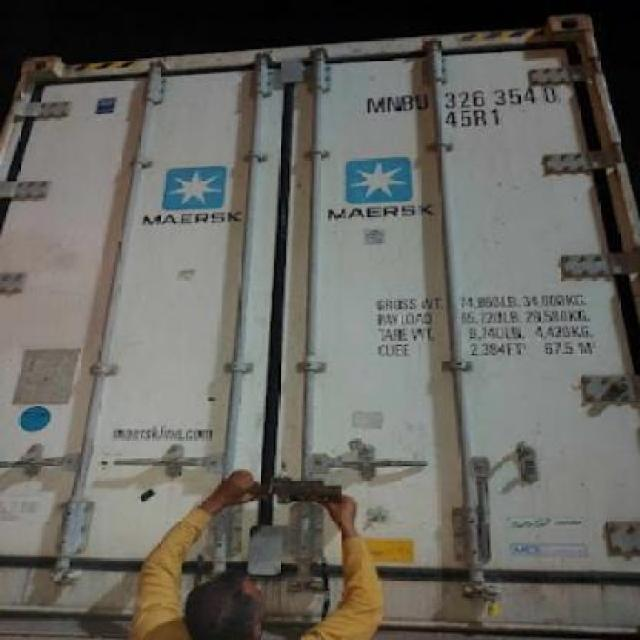ISO: (448, 106, 507, 132)
container_number: (366, 87, 554, 109)
